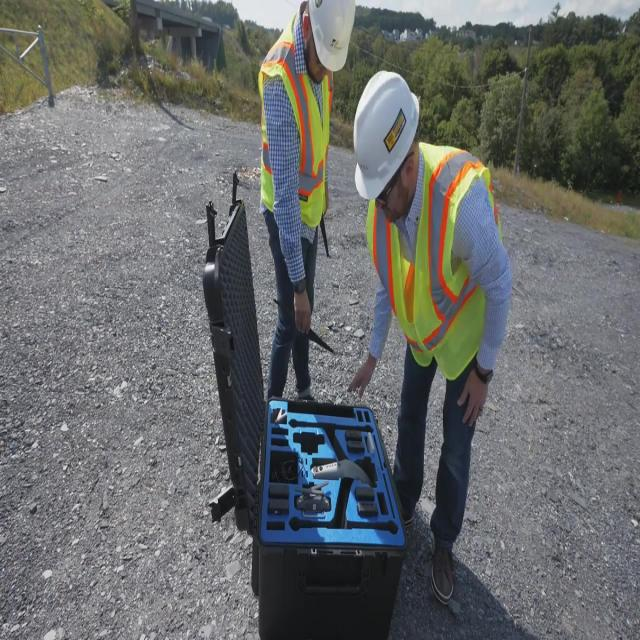Reflective-Jacket: (389, 143, 511, 382), (250, 36, 338, 240)
Safety-Helmet: (348, 62, 422, 206), (302, 1, 356, 75)
